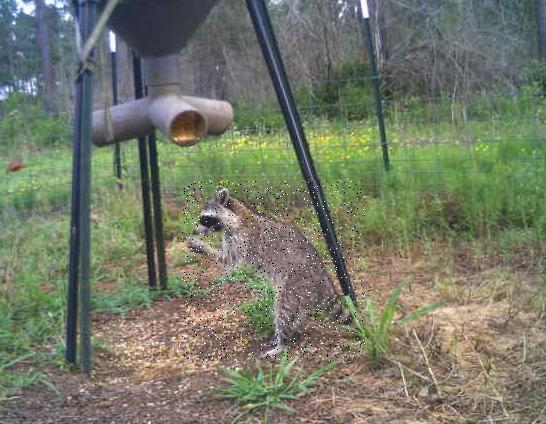Raccoon: (181, 180, 364, 363)
